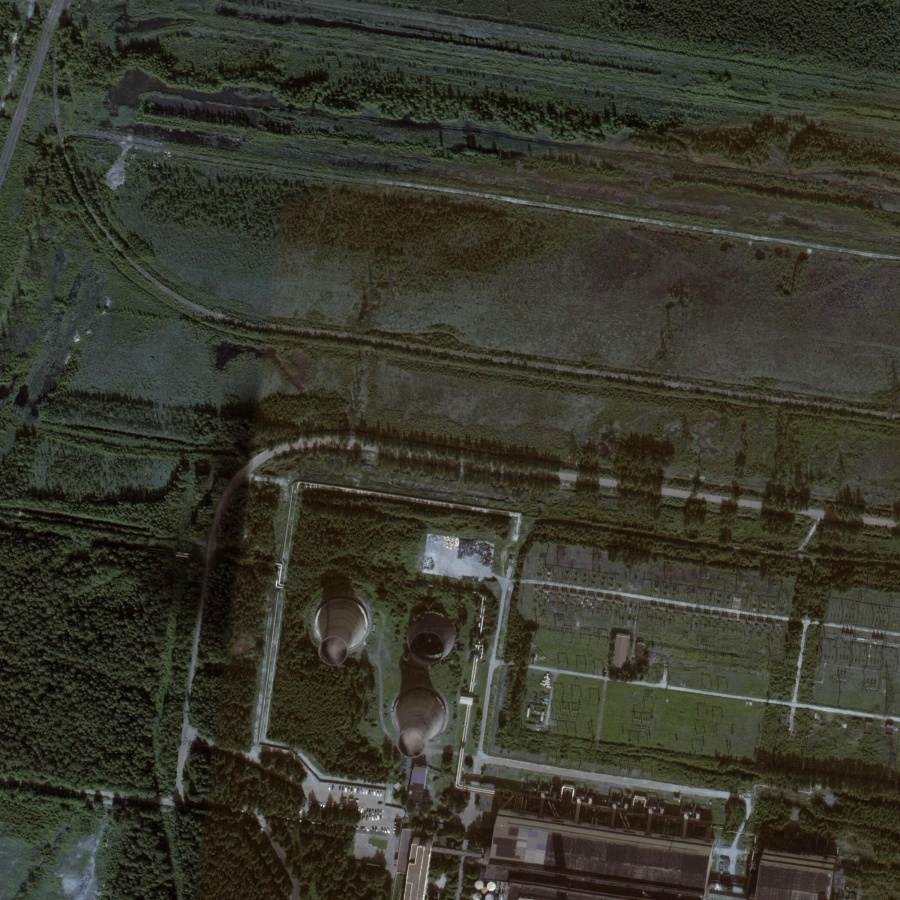PowerPlant: (287, 534, 486, 780)
